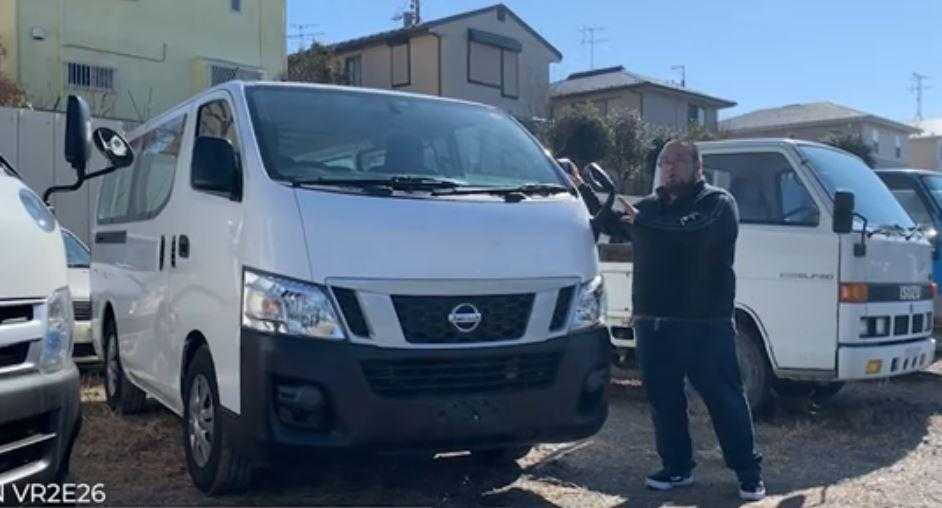van: (79, 76, 622, 473)
